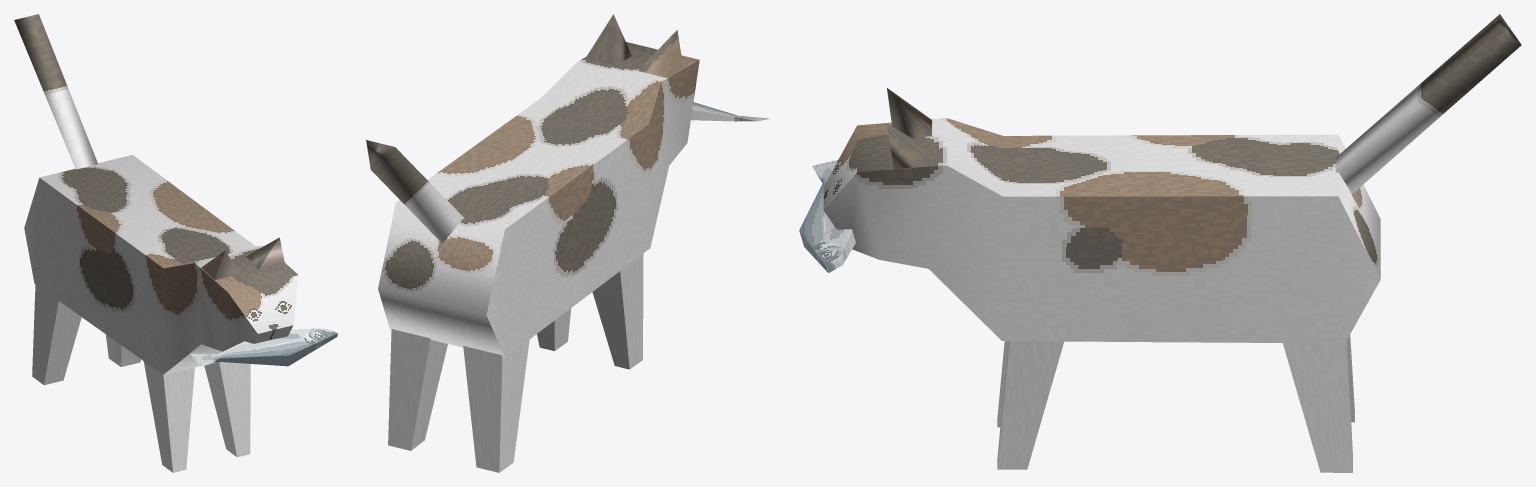
The model's file is 01fa_Calico_Cat.glb.
3 views of the same model, side by side, from view 1: azimuth 30°, elevation 25°; view 2: azimuth 150°, elevation 25°; view 3: azimuth 270°, elevation 25° (orthographic). The views are drawn at different scales.
Parts seen in each view (by area): view 1: part_0; view 2: part_0; view 3: part_0.
Part boxes in pixels (left/top/right/bottom): part_0: left=14, top=14, right=337, bottom=472; part_0: left=366, top=14, right=769, bottom=472; part_0: left=799, top=14, right=1521, bottom=472.
Bounding box in the file's own units: 0.184 × 0.3829 × 0.5942.
1 material, 1 textured.
